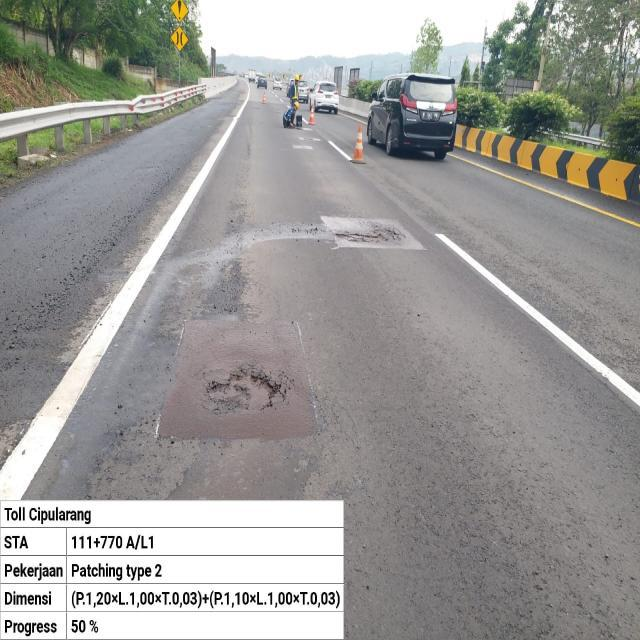Buraco: (202, 366, 288, 413), (334, 227, 403, 245)
